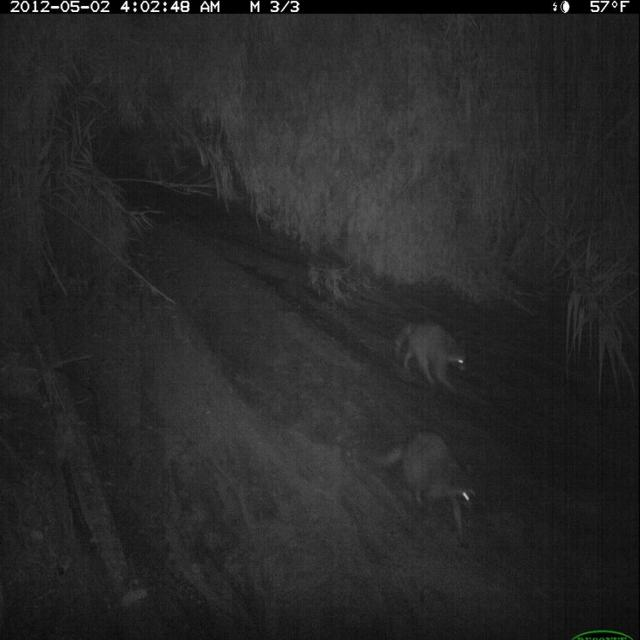raccoon: (381, 425, 481, 546), (390, 316, 475, 398)
